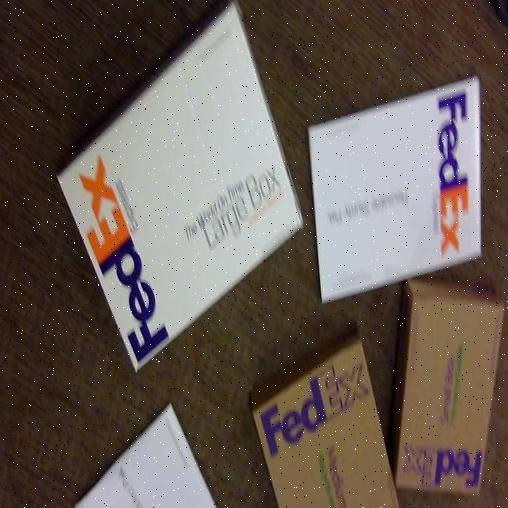Amazon: (42, 0, 306, 356), (318, 93, 484, 278), (251, 341, 406, 508), (402, 266, 490, 503)
